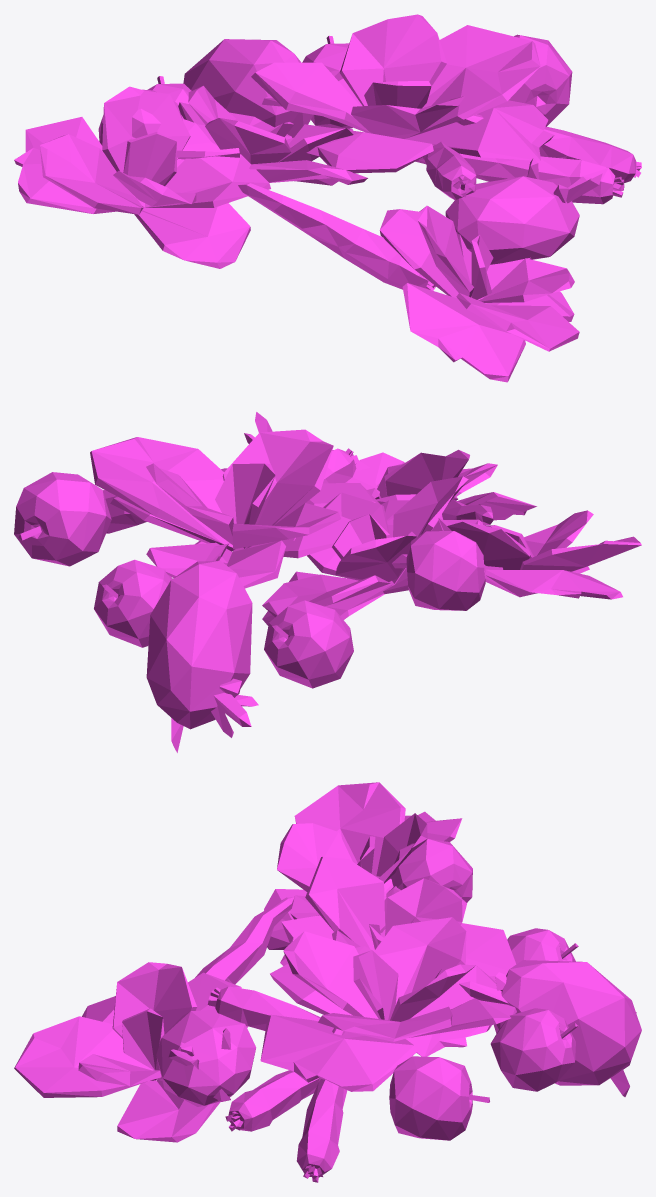
The model's file is SM_Compost_Rotten_Food_Fantasy.fbx.
3 views of the same model, one above another, from view 1: azimuth 30°, elevation 25°; view 2: azimuth 150°, elevation 25°; view 3: azimuth 270°, elevation 25° (orthographic). The views are drawn at different scales.
Parts seen in each view (by area): view 1: SM_Compost_Rotten_Food_Fantasy; view 2: SM_Compost_Rotten_Food_Fantasy; view 3: SM_Compost_Rotten_Food_Fantasy.
Boxes of the visible parts, <box> form: SM_Compost_Rotten_Food_Fantasy: <box>14,14,641,382</box>; SM_Compost_Rotten_Food_Fantasy: <box>14,412,641,752</box>; SM_Compost_Rotten_Food_Fantasy: <box>14,782,641,1182</box>.
Bounding box in the file's own units: 1.1 × 0.3578 × 1.07.
